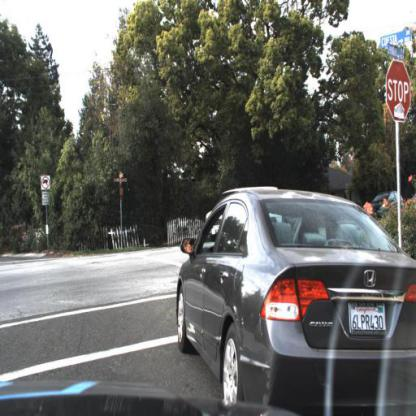car: (171, 186, 416, 415), (366, 177, 406, 226)
